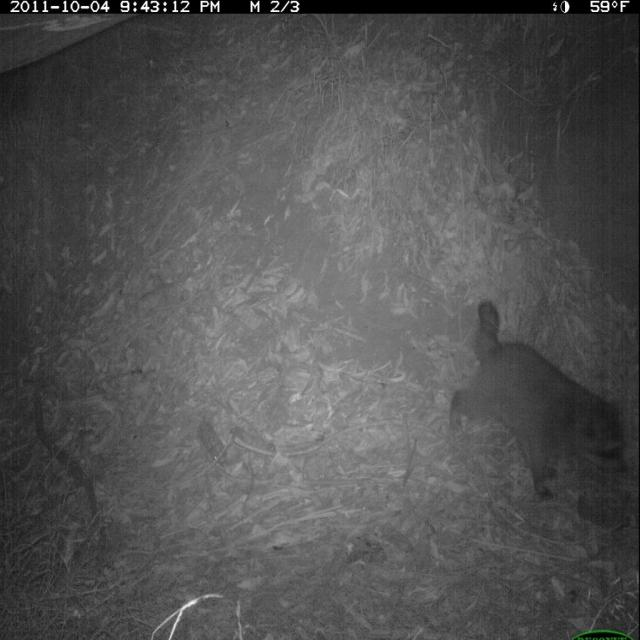raccoon: (444, 292, 636, 509)
